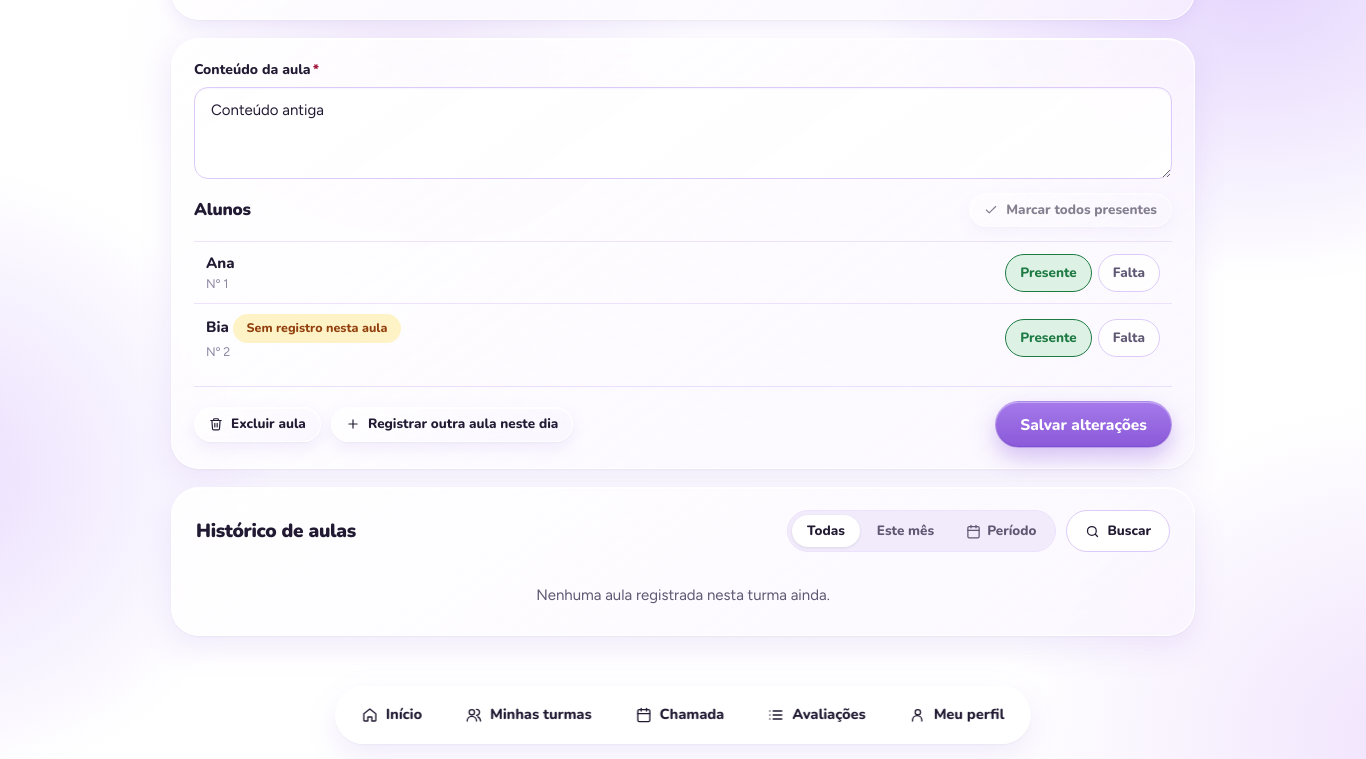
Scenario: Chamada › na correção, envia também quem entrou na turma e ainda não tinha presença
(page scrolled)
Check: the text "Sem registro nesta aula" is shown, box [232,314,401,343]
Click the button "Salvar alterações": (1084, 424) [995,401,1172,448]
(page scrolled)
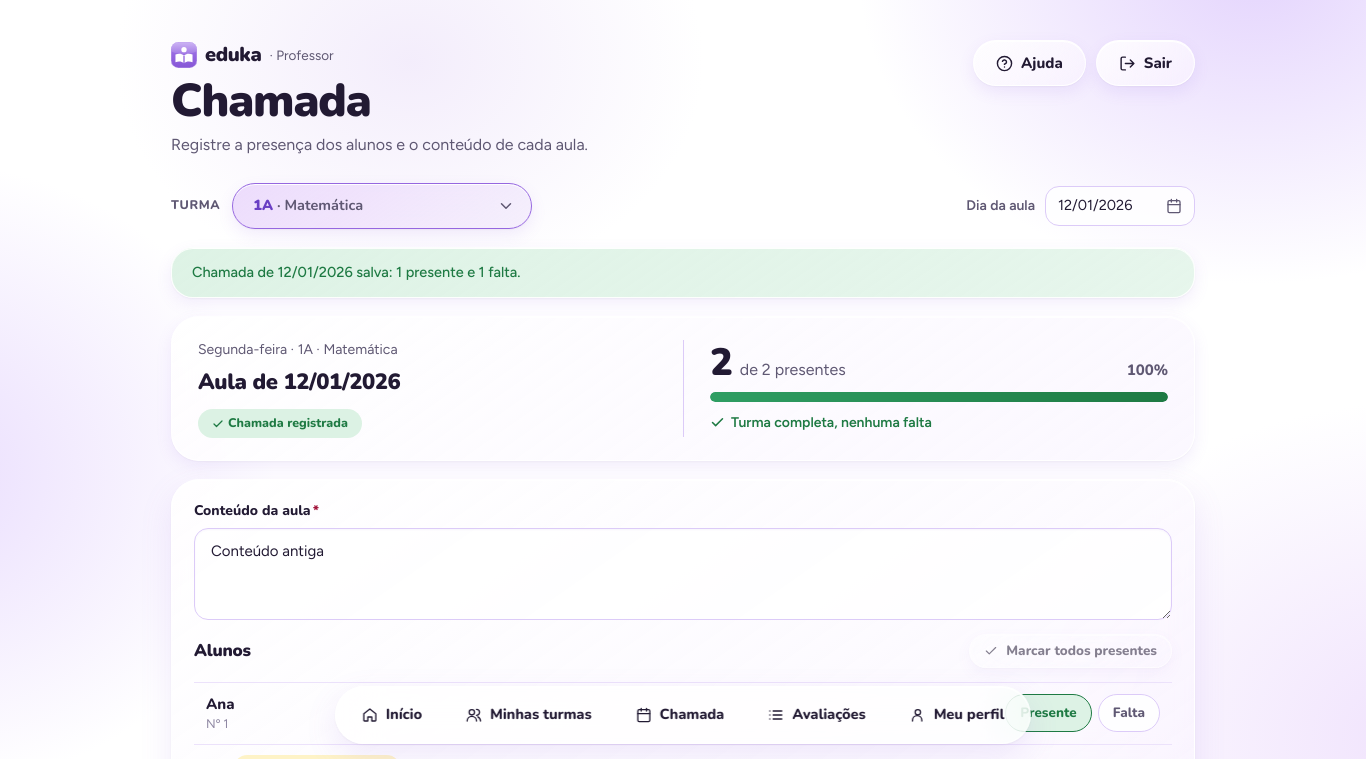
Check: the text "Chamada de 12/01/2026 salva: 1 presente e 1 falta." is shown, box [171,247,1195,298]
